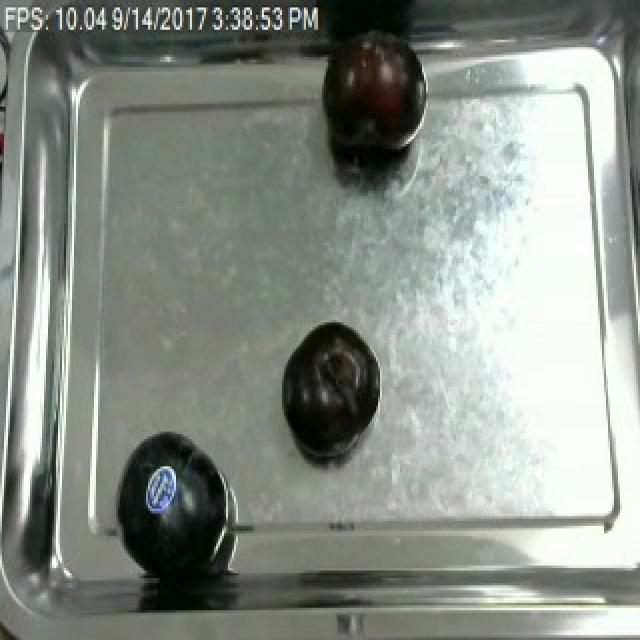Fruit: (110, 422, 232, 585), (316, 25, 428, 164), (276, 318, 374, 457)
